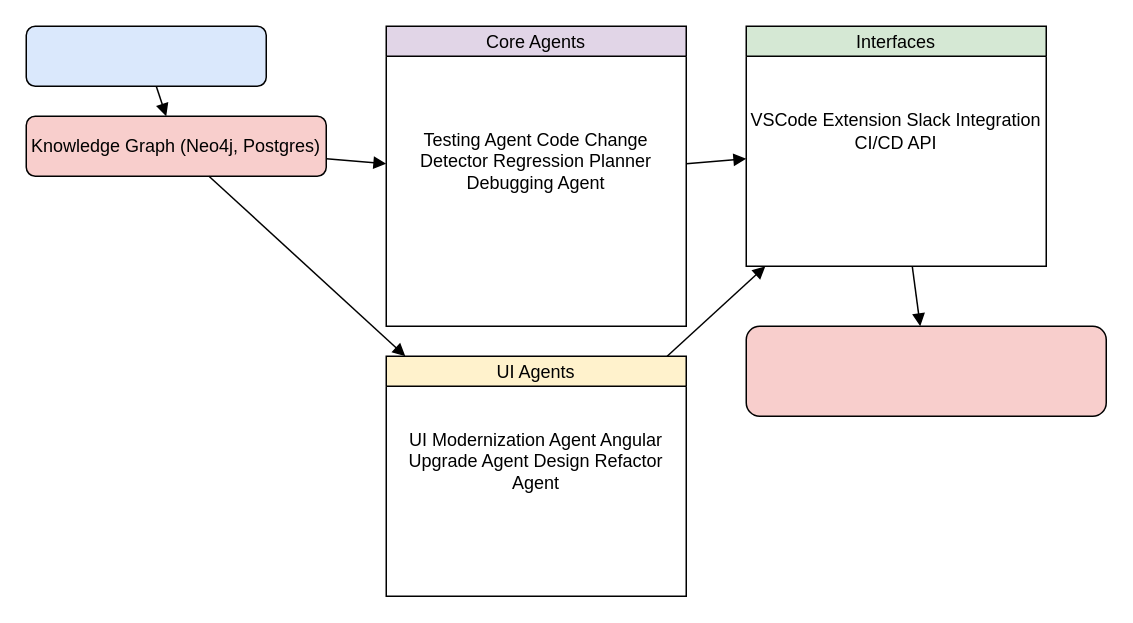
Image size: 1133x623. Some labels were removed from this diagram. The centre of each missing label's shape, as x and y in pixels:
"Automated Development Tasks" goes at [925,370].
"Codebase (Git)" goes at [145,55].
